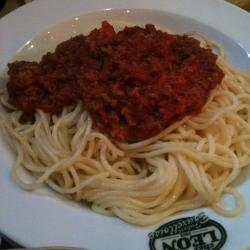bolonese_pasta: (5, 25, 250, 209)
